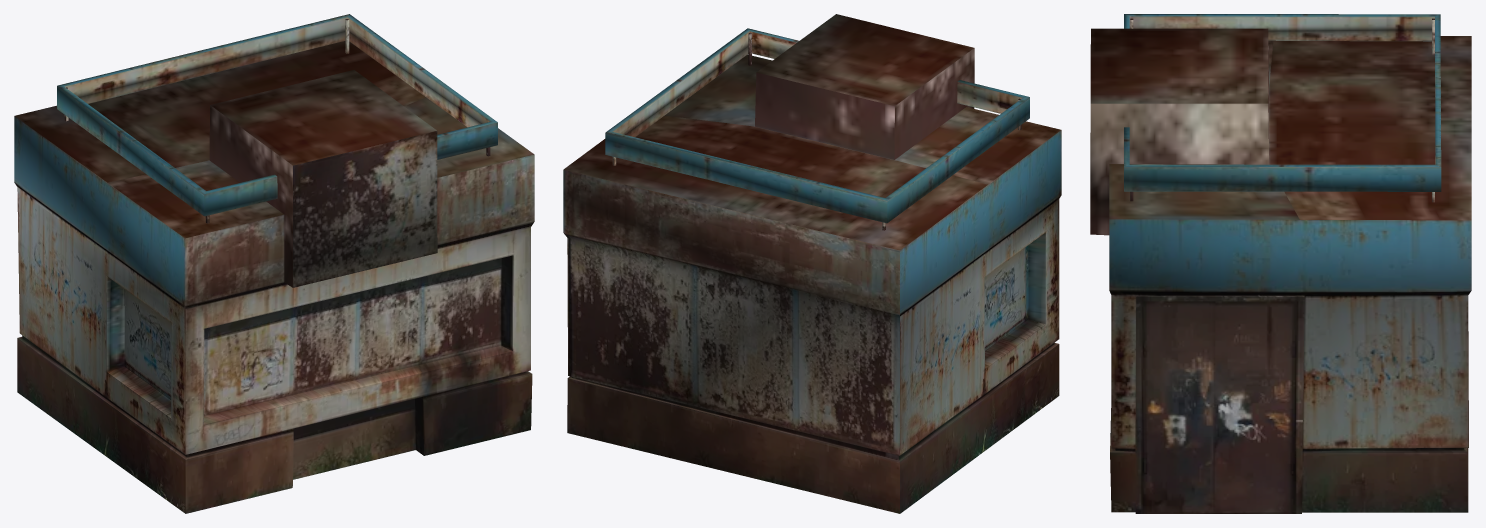
File: rusty_kiosk_01.glb
3 views of the same model, side by side, from view 1: azimuth 30°, elevation 25°; view 2: azimuth 150°, elevation 25°; view 3: azimuth 270°, elevation 25° (orthographic). The views are drawn at different scales.
Visible parts, largest first — view 1: RustyKiosk01_RustyKiosk01_0; view 2: RustyKiosk01_RustyKiosk01_0; view 3: RustyKiosk01_RustyKiosk01_0.
Boxes of the visible parts, box(x1,y1,x2,y2) form: RustyKiosk01_RustyKiosk01_0: box(14, 14, 534, 513); RustyKiosk01_RustyKiosk01_0: box(563, 14, 1061, 513); RustyKiosk01_RustyKiosk01_0: box(1090, 14, 1471, 513).
Size of the model in its own units: 3.76 by 3.4 by 3.31.
Materials: 1 (1 with a texture image).
